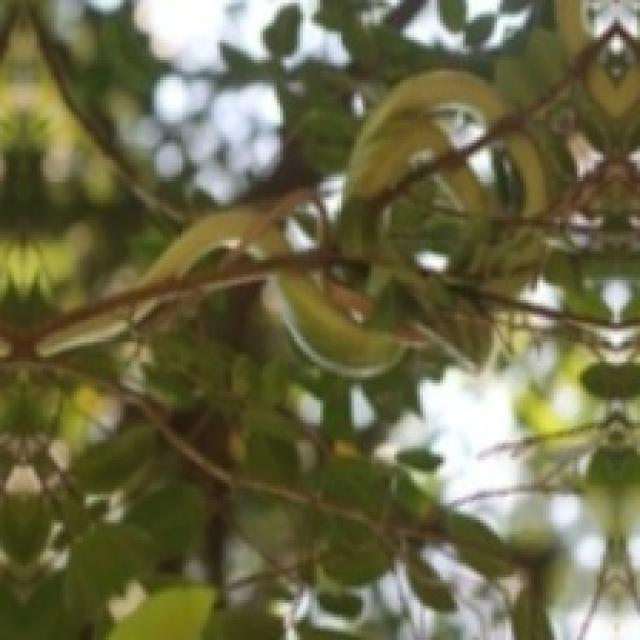red-tailed green ratsnake: (35, 74, 584, 378)
